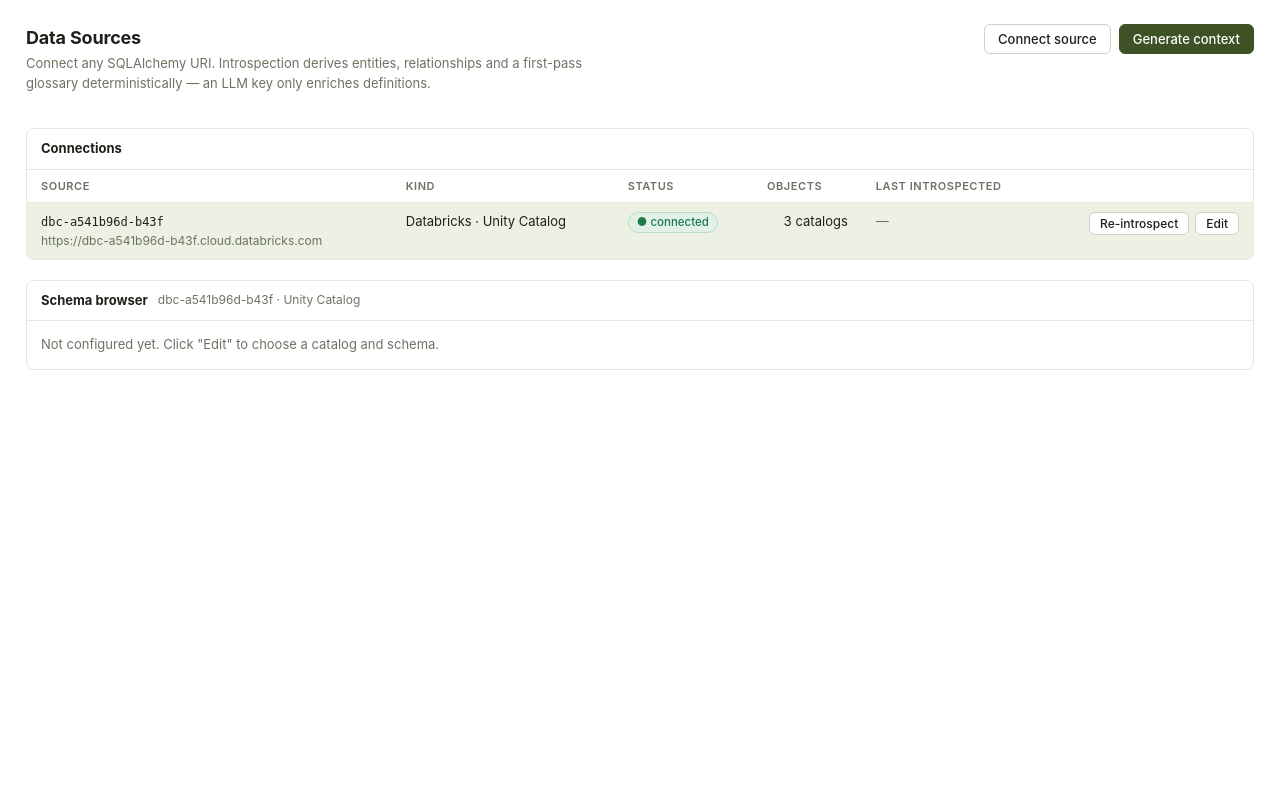
it: editing the Databricks connection to set a catalog and schema loads its real schema automatically
Click the button "Edit".
click(1217, 224)  # box [1195, 212, 1239, 235]
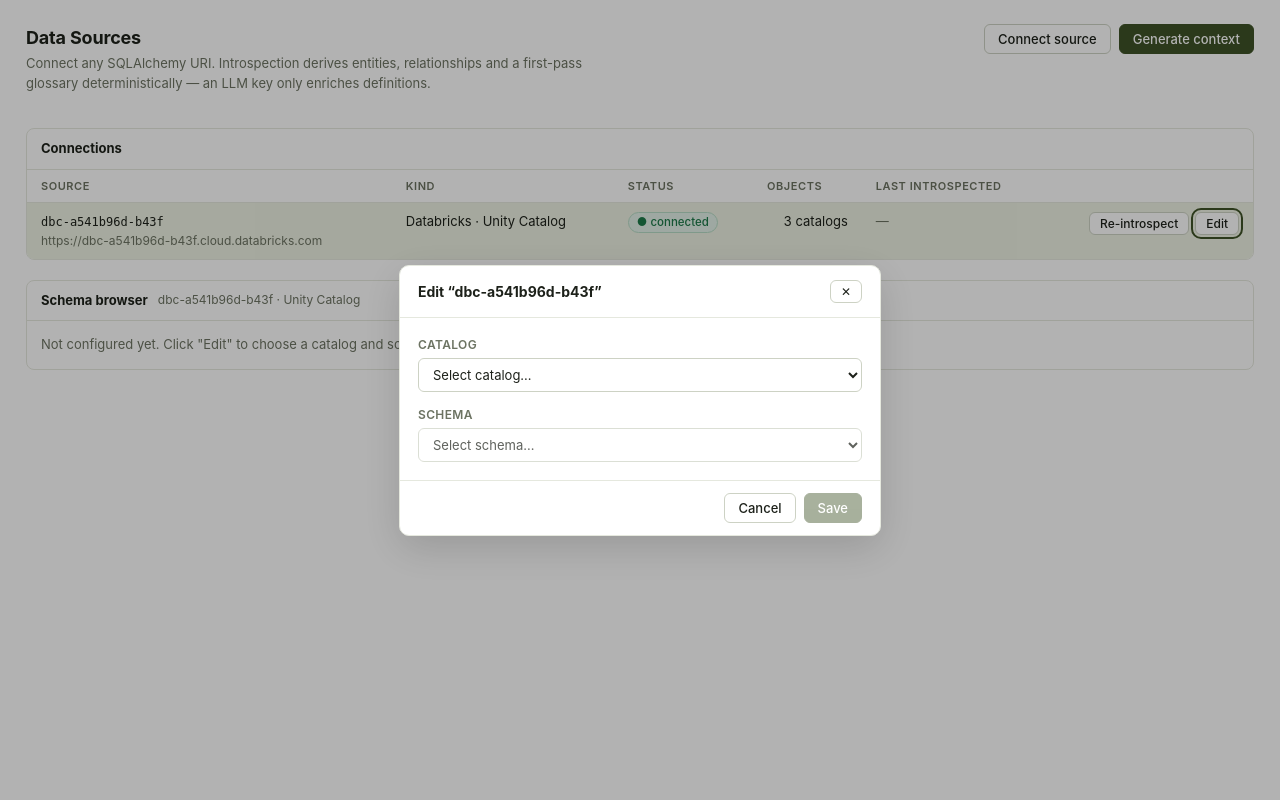
Select "graphos" in the dropdown labelled "Catalog" at coordinates (640, 374), box [418, 358, 862, 392]
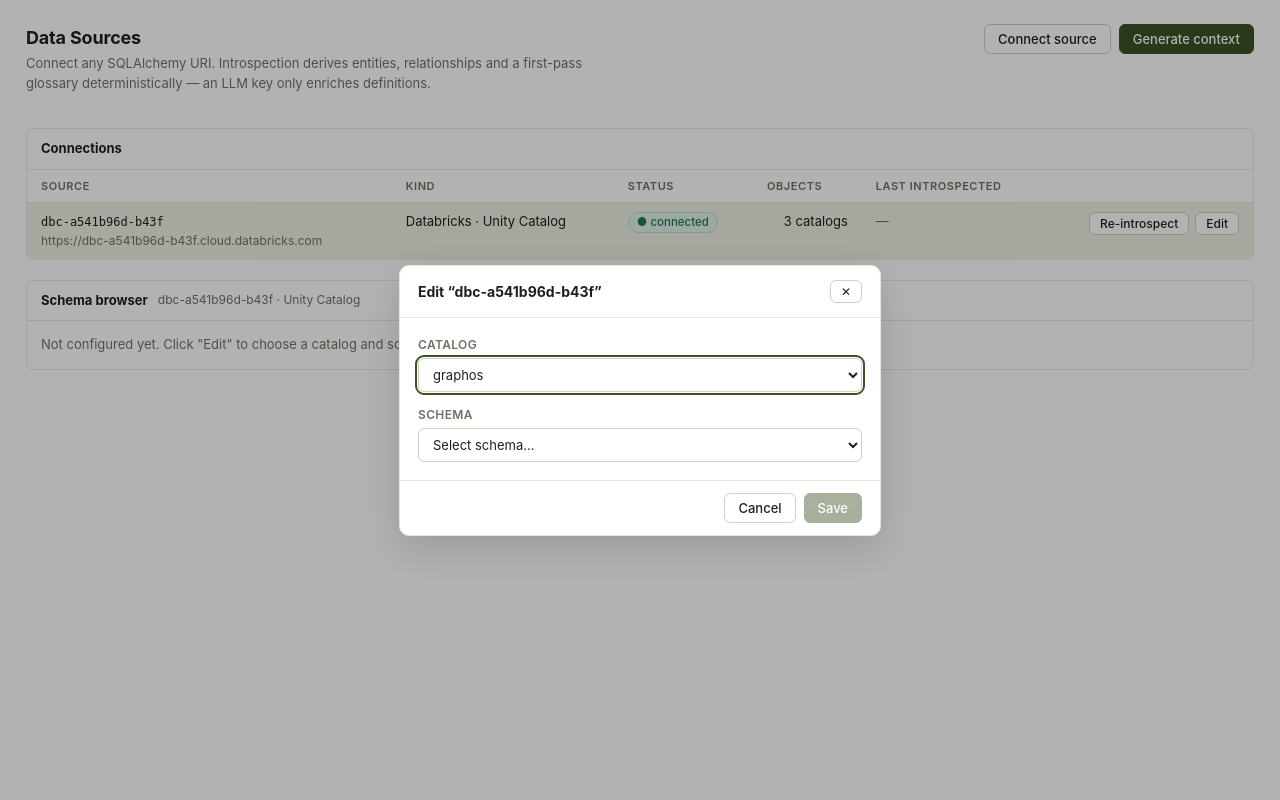
Expected: the dropdown labelled "Schema" is shown
Select "default" in the dropdown labelled "Schema" at coordinates (640, 444), box [418, 428, 862, 462]
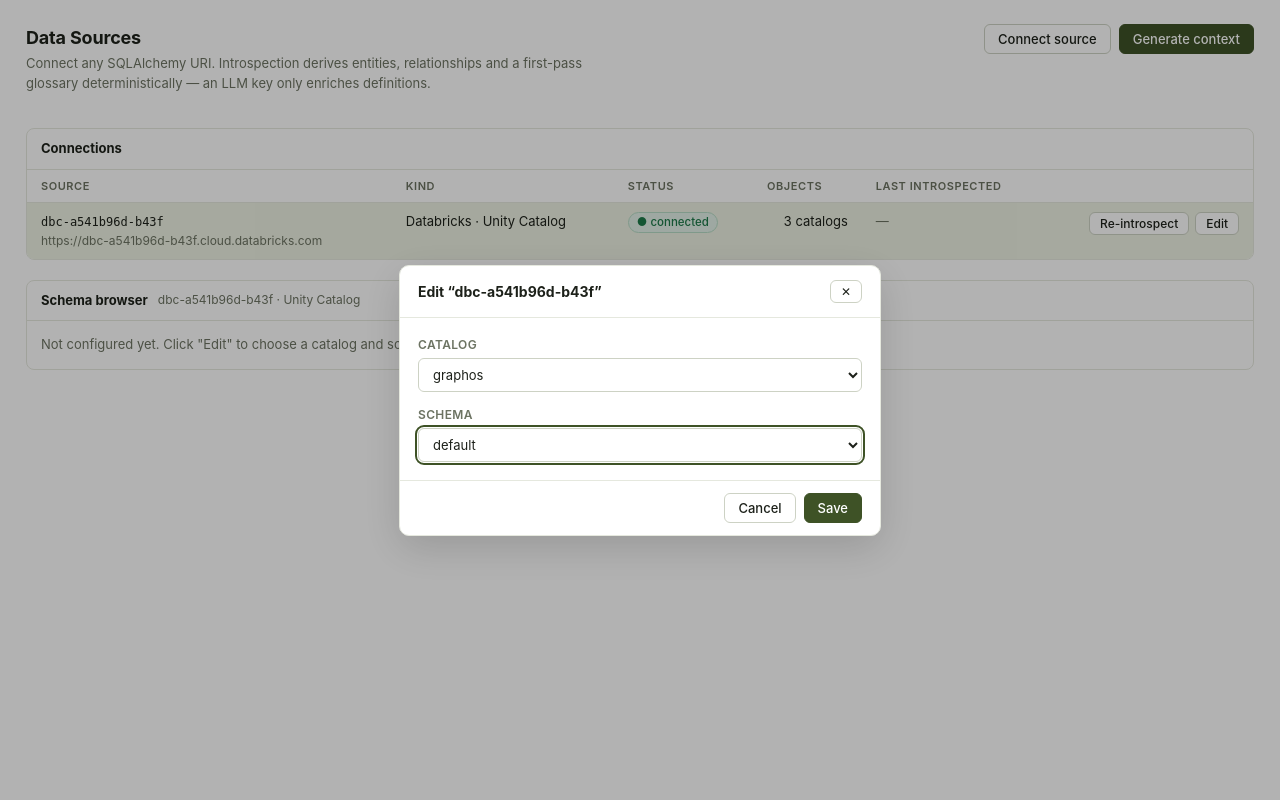
Click the button "Save".
click(833, 508)  # box [804, 492, 862, 522]
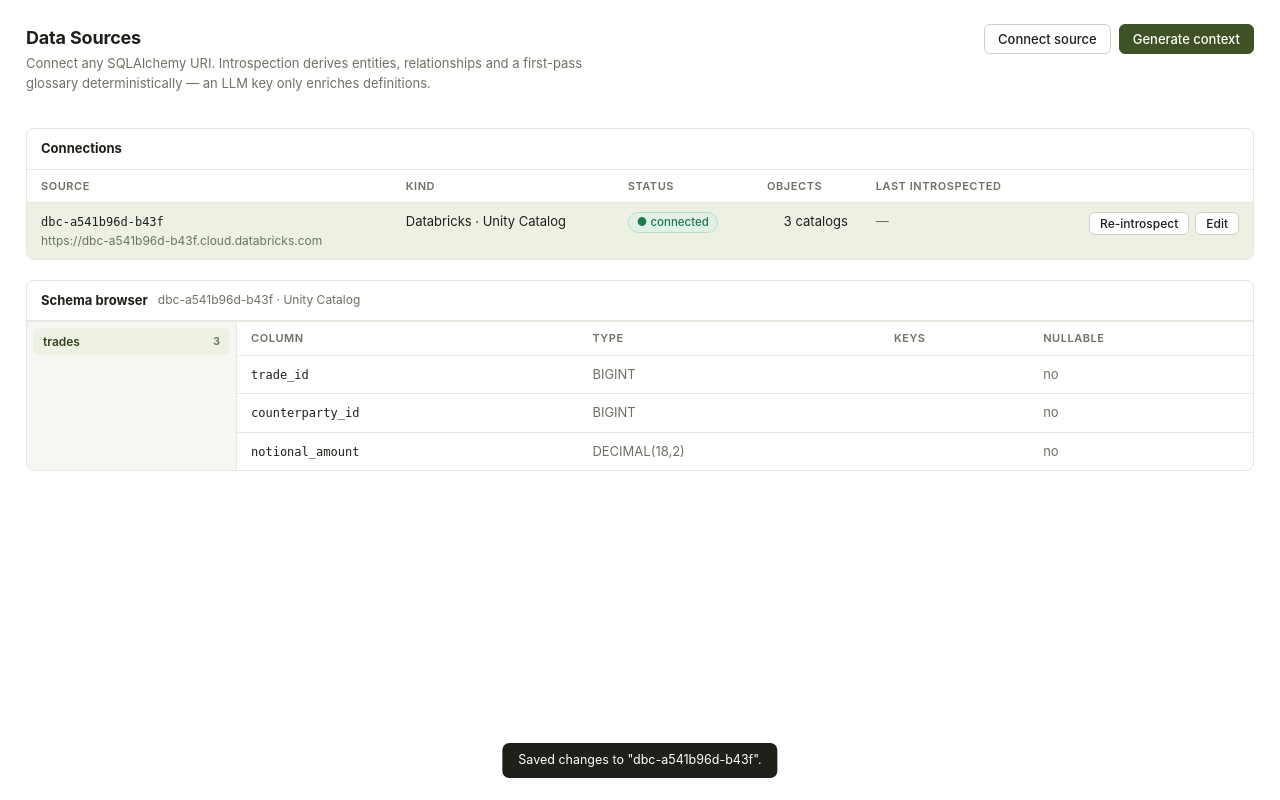
Expected: the option "trades 3" is shown, [33, 328, 230, 355]
